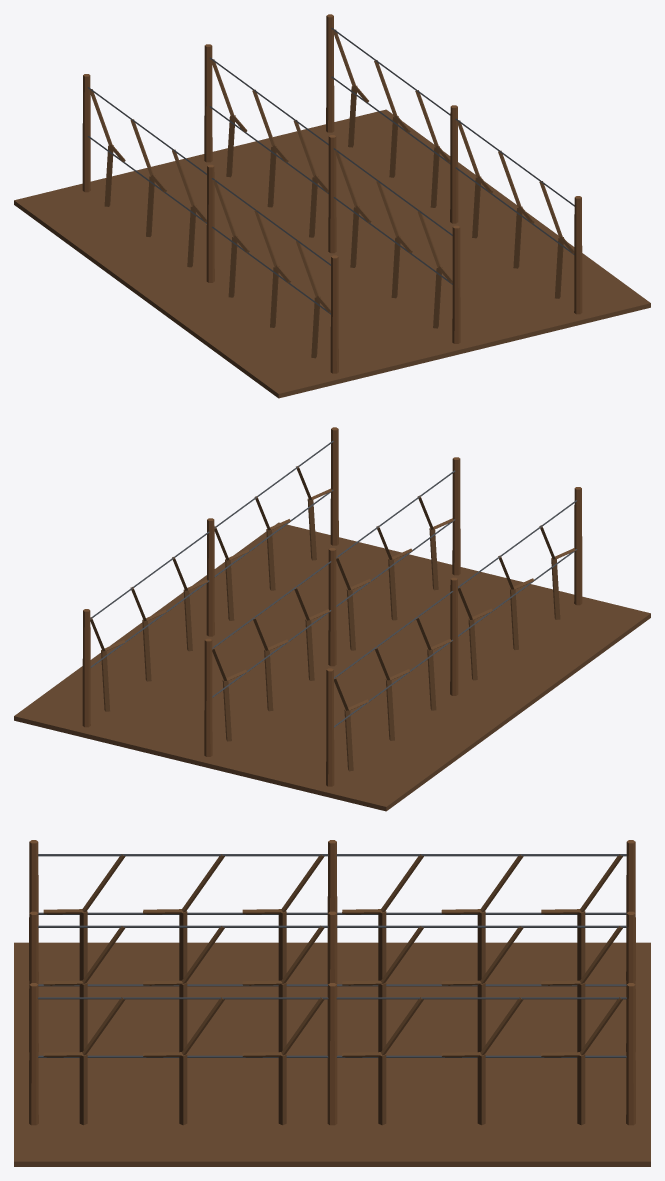
The model's file is vineyard_bare.glb.
The picture shows the model from 3 angles, top to bottom: view 1: azimuth 30°, elevation 25°; view 2: azimuth 150°, elevation 25°; view 3: azimuth 270°, elevation 25°; orthographic projection. The views are drawn at different scales.
Parts seen in each view (by area): view 1: farm_vineyard_bare; view 2: farm_vineyard_bare; view 3: farm_vineyard_bare.
Part boxes in pixels (x1,y1,x2,y2): farm_vineyard_bare: (14, 14, 650, 398); farm_vineyard_bare: (14, 427, 650, 811); farm_vineyard_bare: (14, 840, 650, 1166).
Size of the model in its own units: 5.2 by 1.6 by 6.4.
